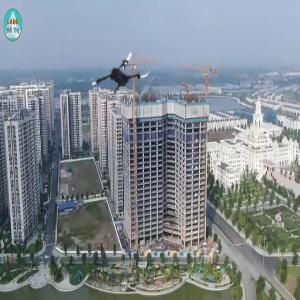drone: (90, 41, 153, 104)
